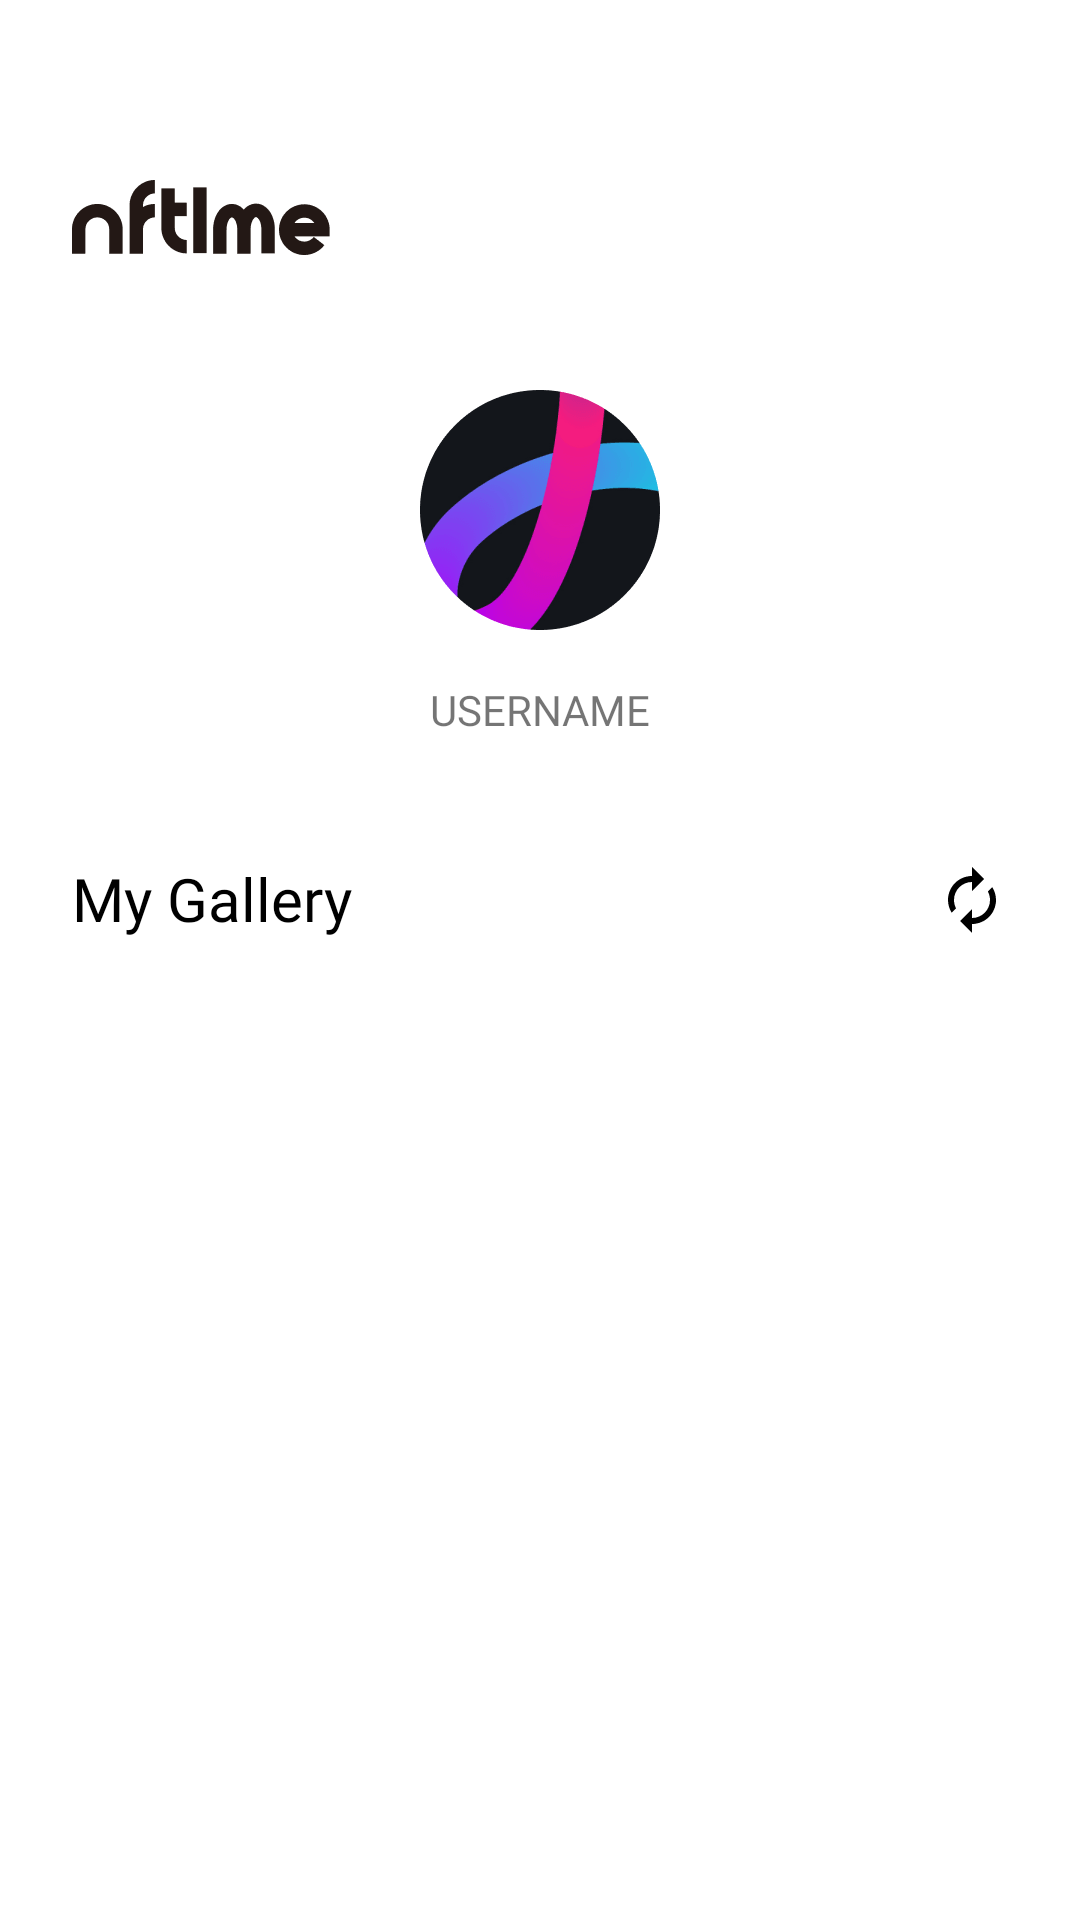

Icon click points for this 1080w x 1920h phone screenshot, format point (x, y):
autorenew: point (972, 900)
mypage profile picture: point (540, 510)
